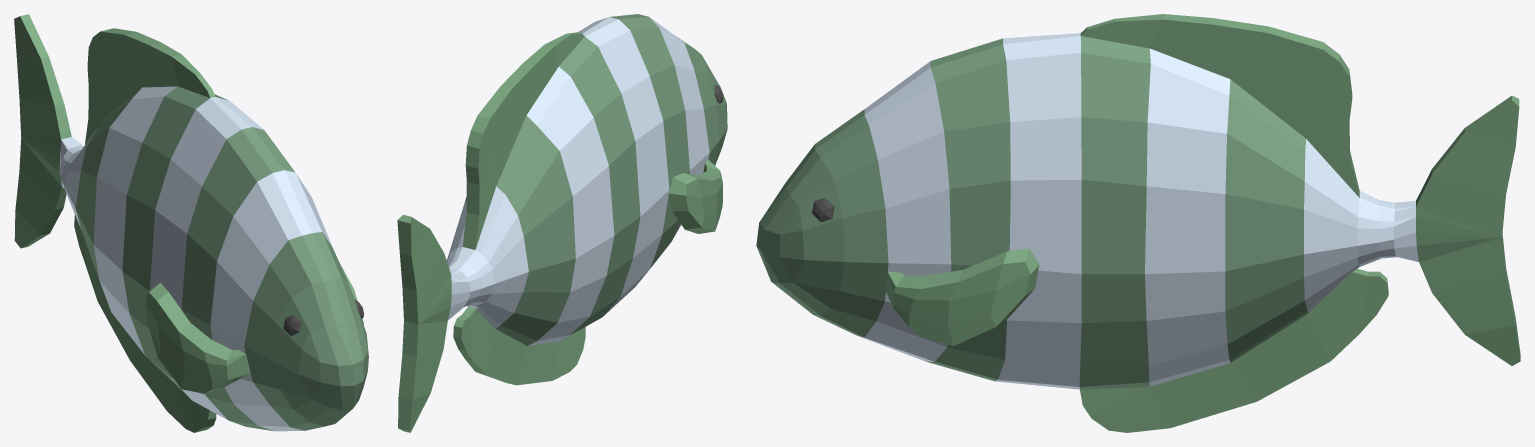
Rendered from fish08.fbx.
3 renders of one model, left to right at view 1: azimuth 30°, elevation 25°; view 2: azimuth 150°, elevation 25°; view 3: azimuth 270°, elevation 25°, orthographic. The views are drawn at different scales.
Parts seen in each view (by area): view 1: fish08; view 2: fish08; view 3: fish08.
Part boxes in pixels (x1,y1,x2,y2): fish08: (14, 14, 368, 432); fish08: (397, 14, 727, 432); fish08: (756, 14, 1520, 432).
Size of the model in its own units: 32.33 by 102 by 60.51.
